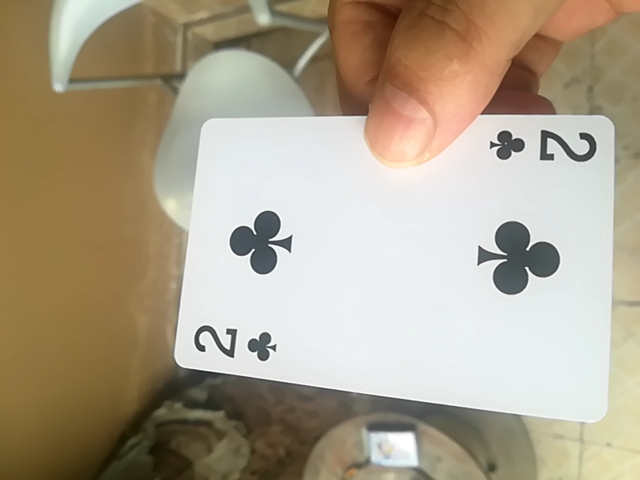mh 2: (166, 110, 621, 423)
